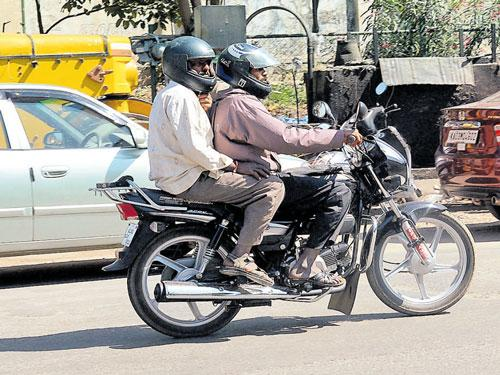helmet: (151, 26, 221, 97), (212, 34, 284, 99)
